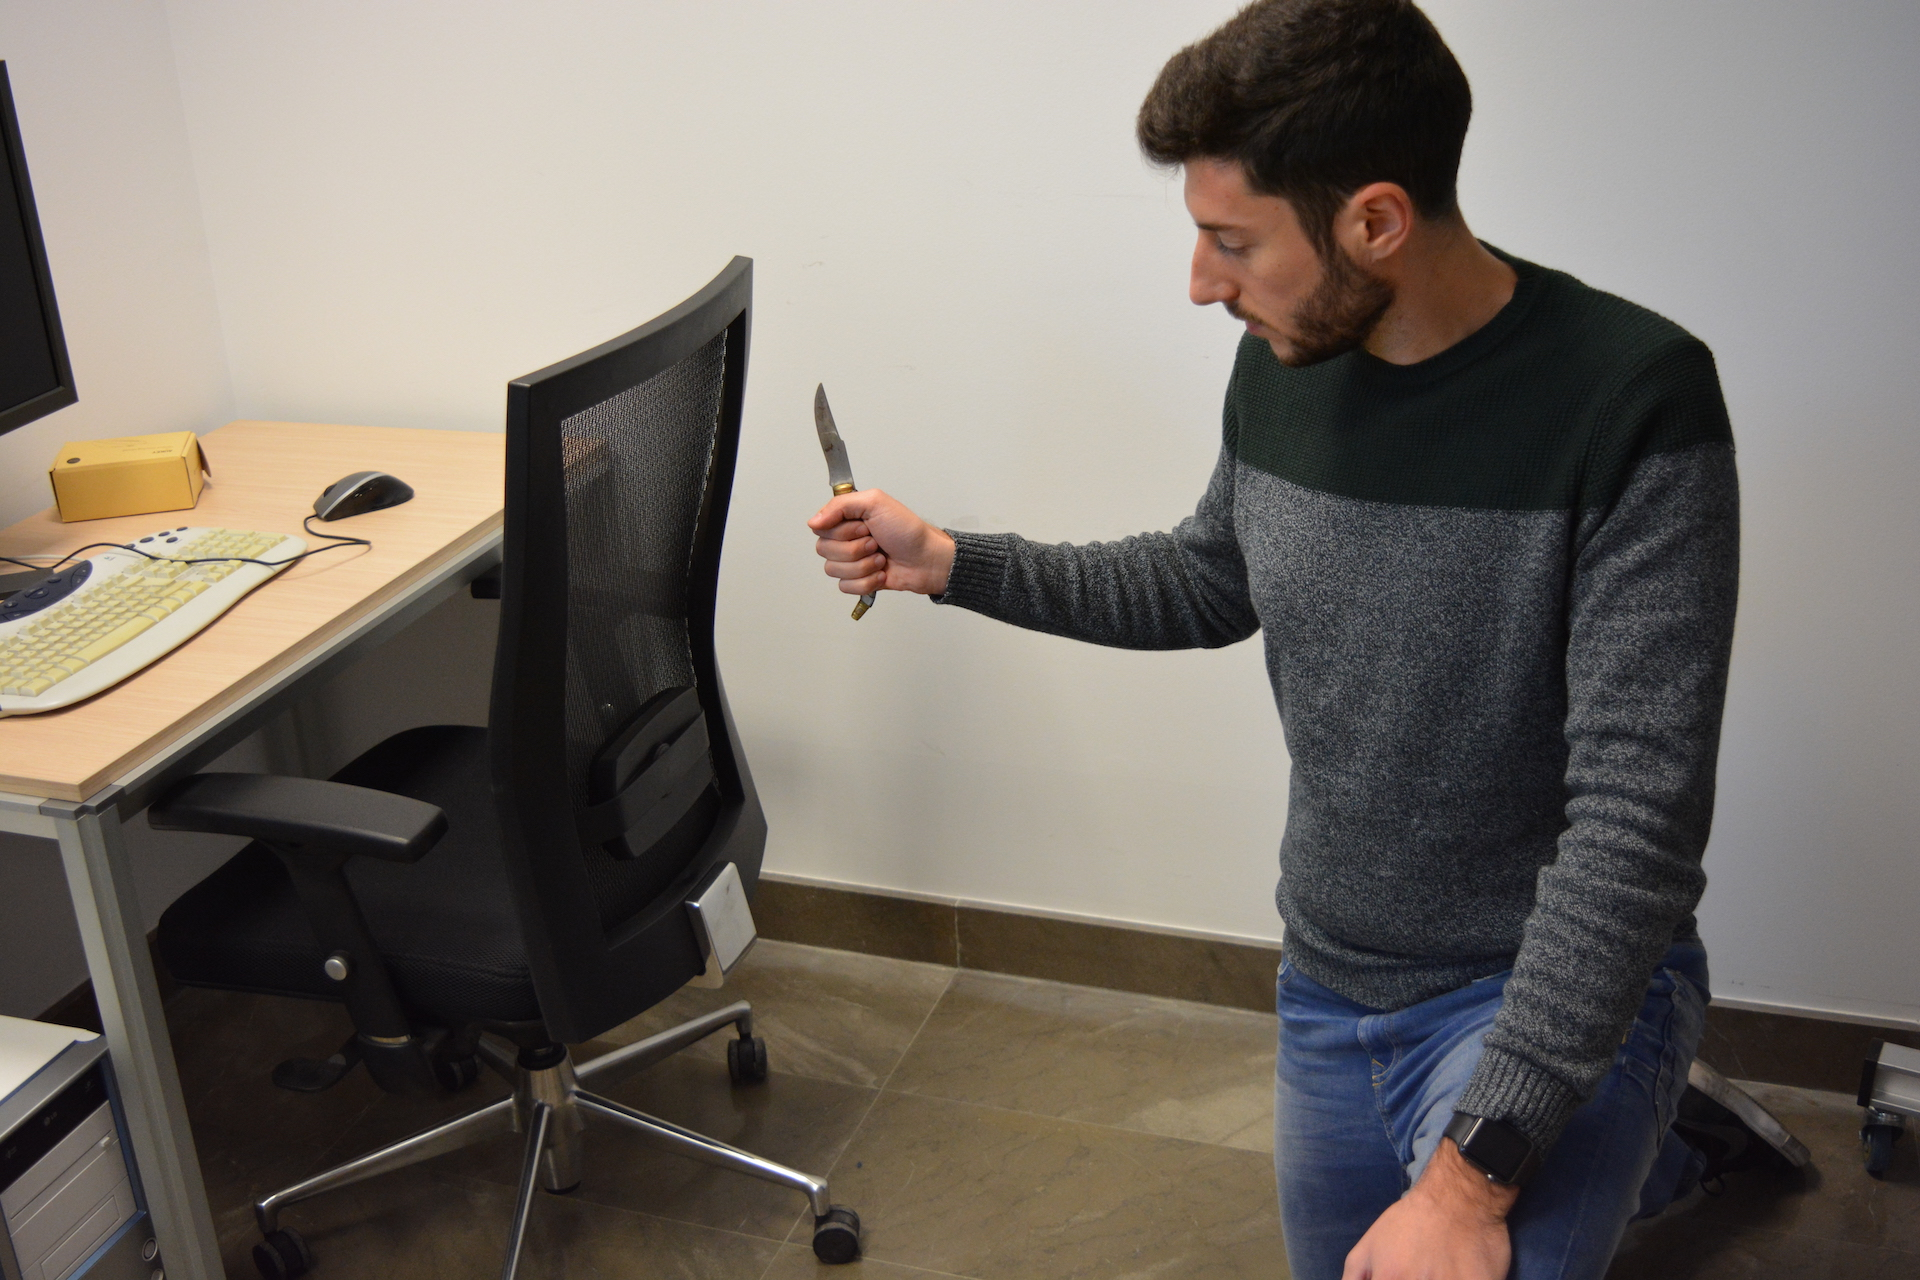knife: (803, 374, 897, 621)
